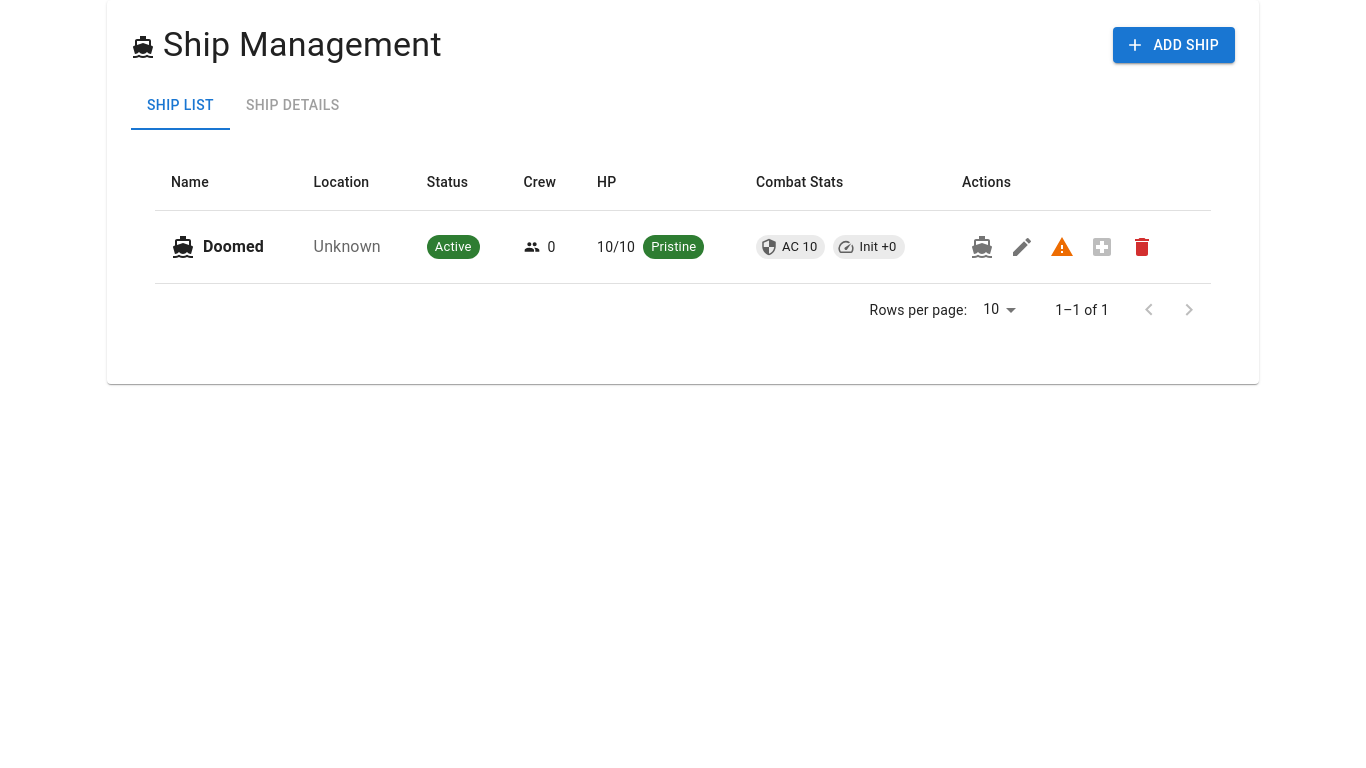
ShipManagement › deleting › shows the server message when the delete fails
Expected: the text "Doomed" is shown, [203, 235, 264, 259]
Click the button titled "Delete" at (1142, 247), box [1122, 227, 1162, 267]
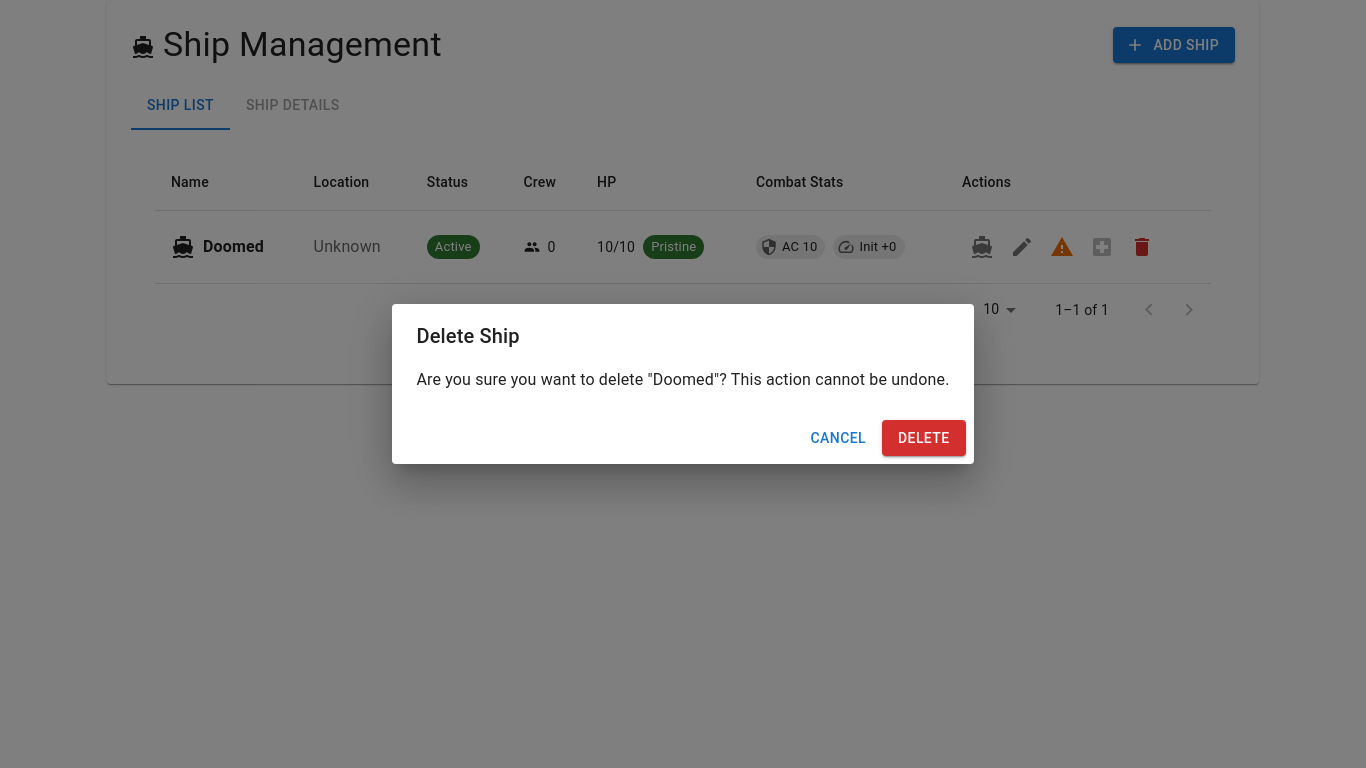
Click the button "Delete" at (924, 438), box [882, 420, 966, 456]
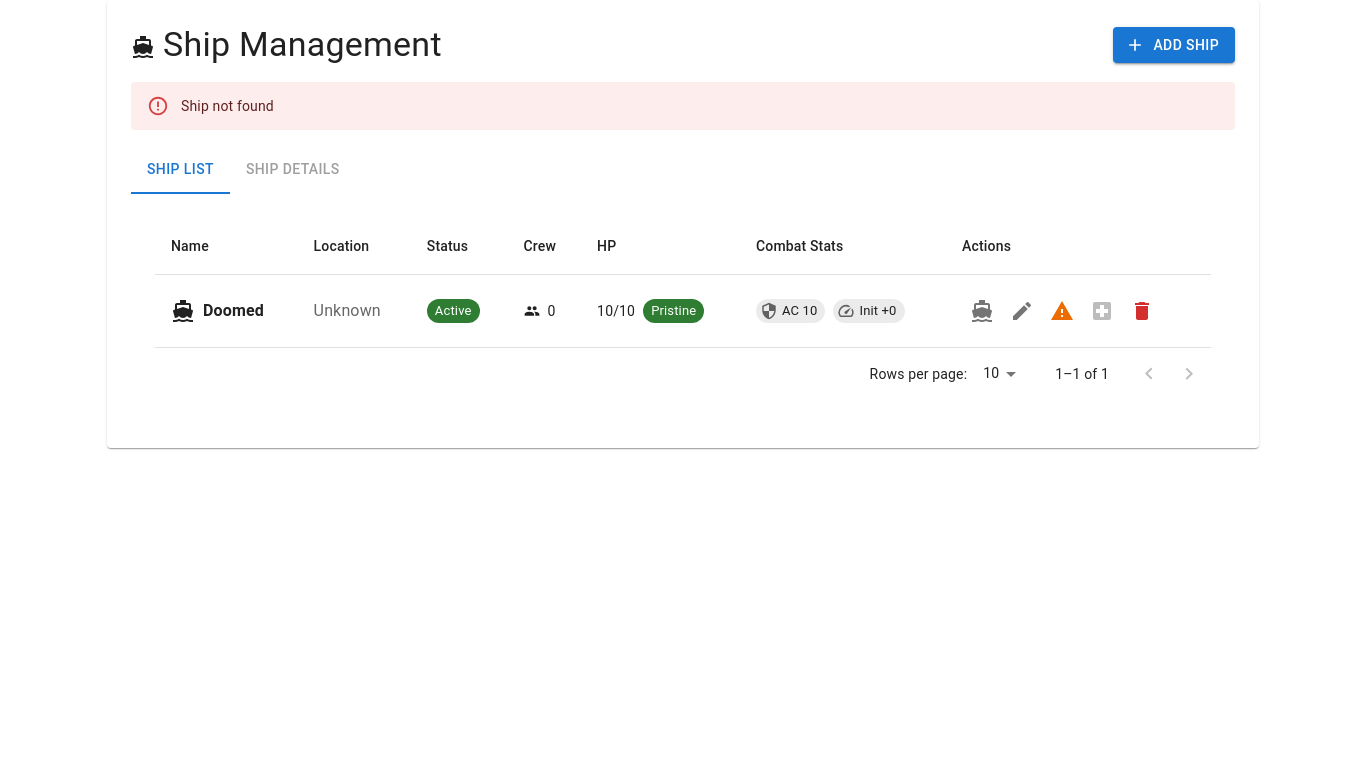
Now the text "Ship not found" is shown, box [181, 98, 274, 114]
